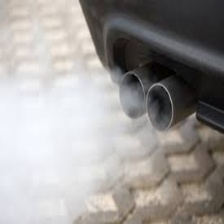smoke: (2, 74, 115, 220)
